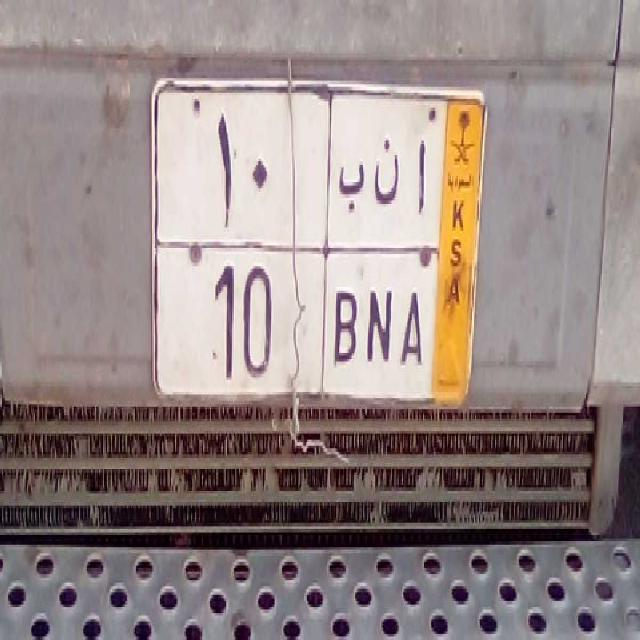license_plate: (152, 238, 438, 397)
